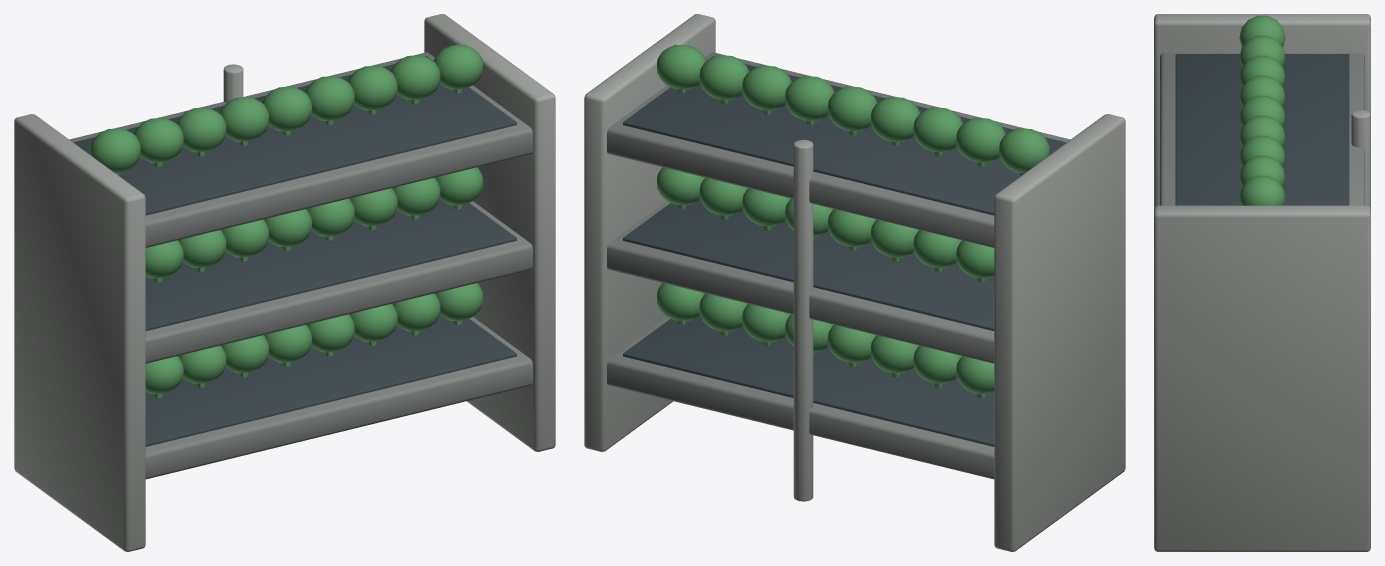
The model's file is hab_hydroponics_v4.glb.
3 views of the same model, side by side, from view 1: azimuth 30°, elevation 25°; view 2: azimuth 150°, elevation 25°; view 3: azimuth 270°, elevation 25° (orthographic). The views are drawn at different scales.
Visible parts, largest first — view 1: HabHydroponics; view 2: HabHydroponics; view 3: HabHydroponics.
Boxes of the visible parts, <box> form: HabHydroponics: <box>14,14,555,551</box>; HabHydroponics: <box>584,14,1125,551</box>; HabHydroponics: <box>1154,14,1370,551</box>.
Bounding box in the file's own units: 2.42 × 1.99 × 1.1.
